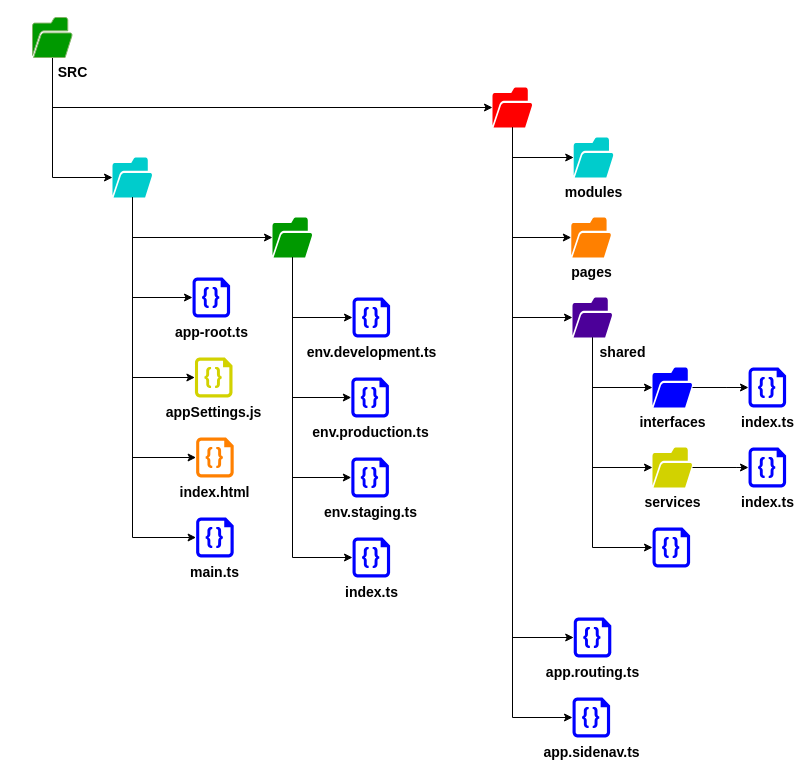
The diagram is 811 pixels wide and 779 high, and some of its shapes have lost their labels. The box of each missing label's shape, as (x1, y1, x2, y2) in pixels:
app: (492, 87, 532, 127)
config: (112, 157, 152, 197)
environments: (272, 217, 312, 257)
shared.module.ts: (652, 527, 690, 567)
